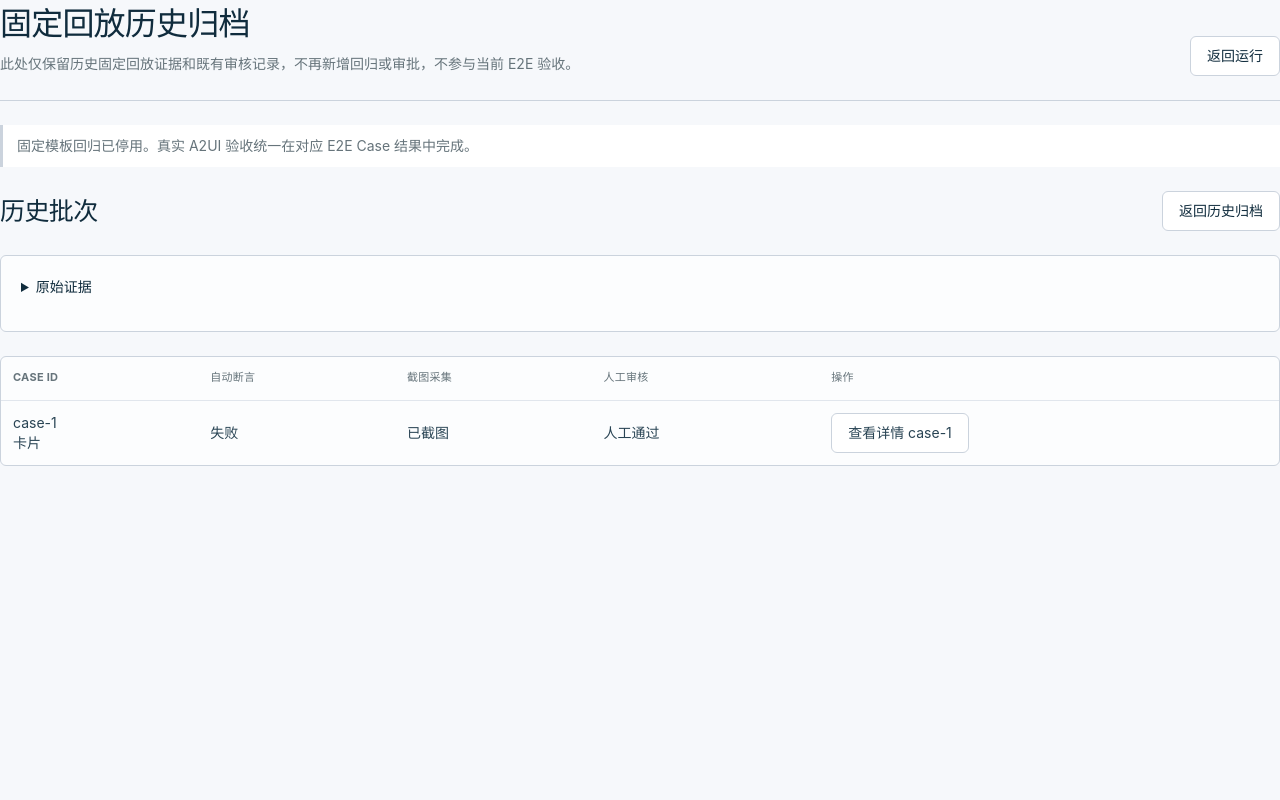
preserves screenshots and decisions as read-only evidence without masking automatic failure
Click the button "查看详情 case-1": (900, 433) [831,413,969,453]
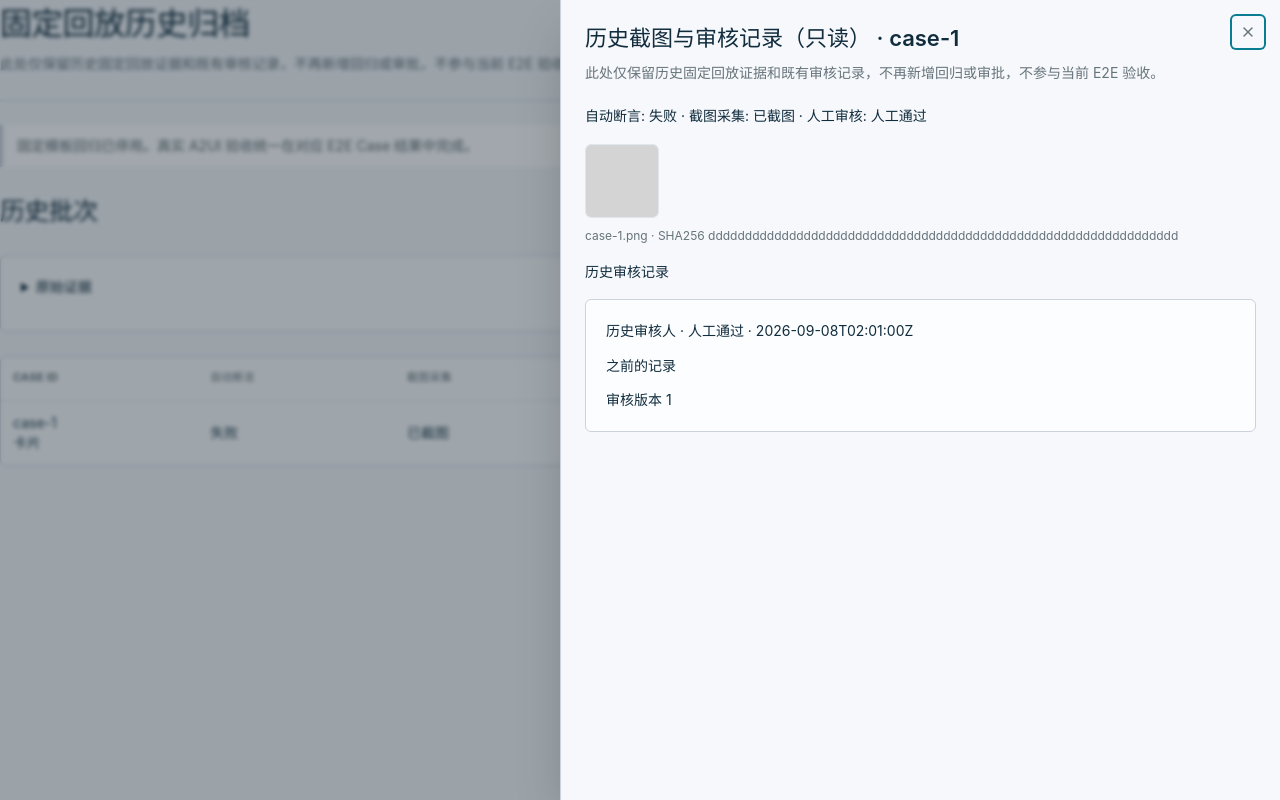
Expected: the text "之前的记录" is shown, [606,357,676,374]
Expected: the text "历史审核人 · 人工通过 · 2026-09-08T02:01:00Z" is shown, [606,322,913,339]
Expected: the text "自动断言: 失败 · 截图采集: 已截图 · 人工审核: 人工通过" is shown, [585,107,927,124]
Click the button named "关闭": (1248, 32) [1232,16,1264,48]
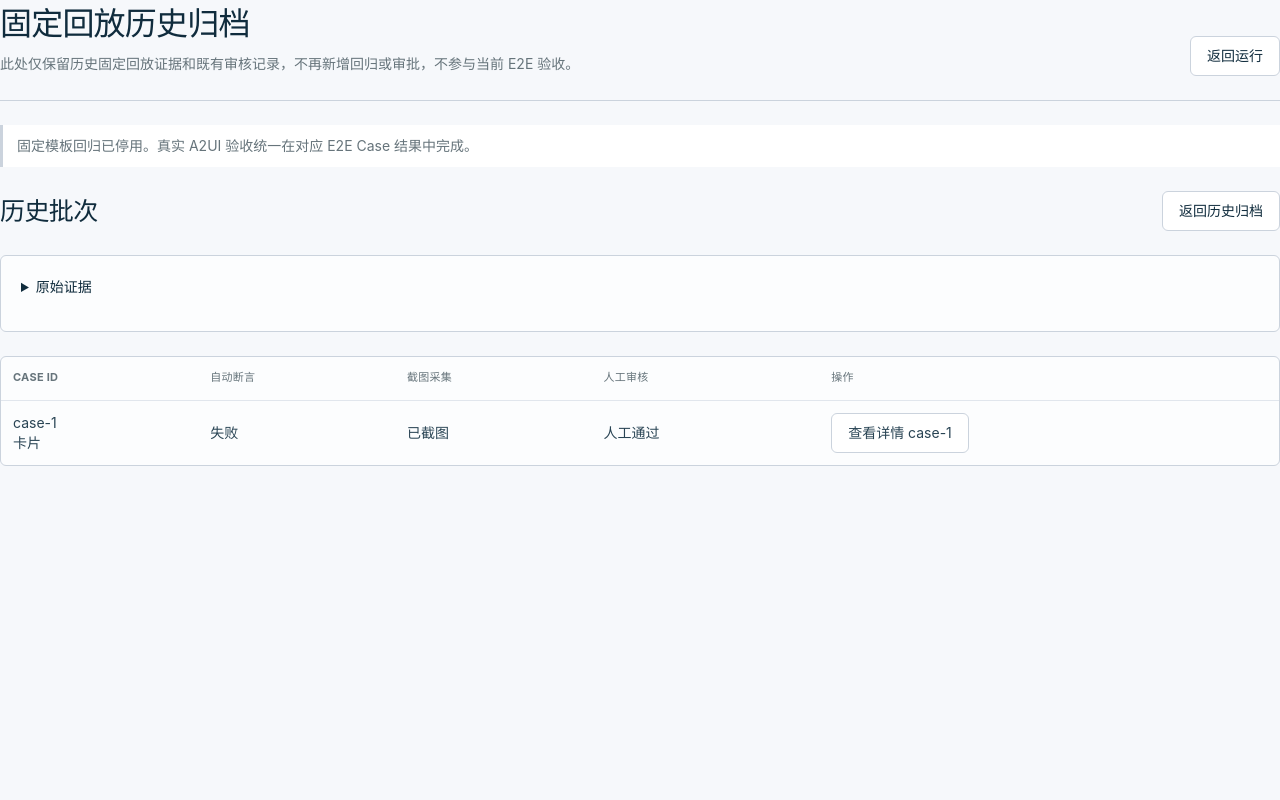
Expected: the dialog is gone
